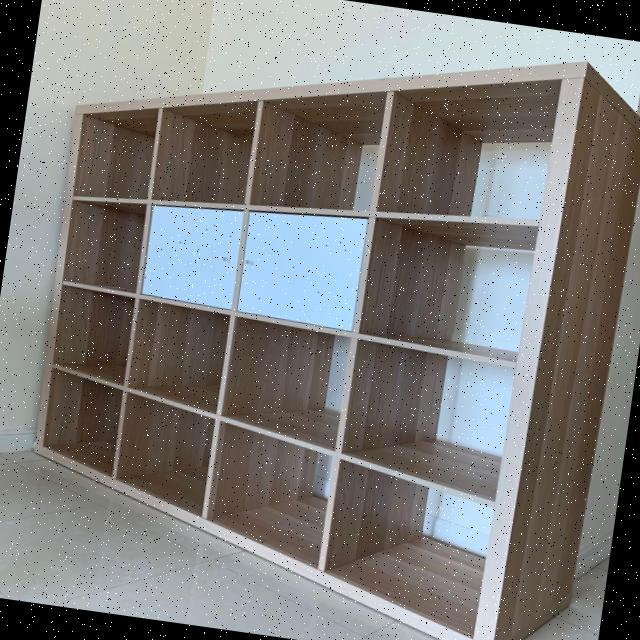Shelf: (1, 0, 640, 640)
